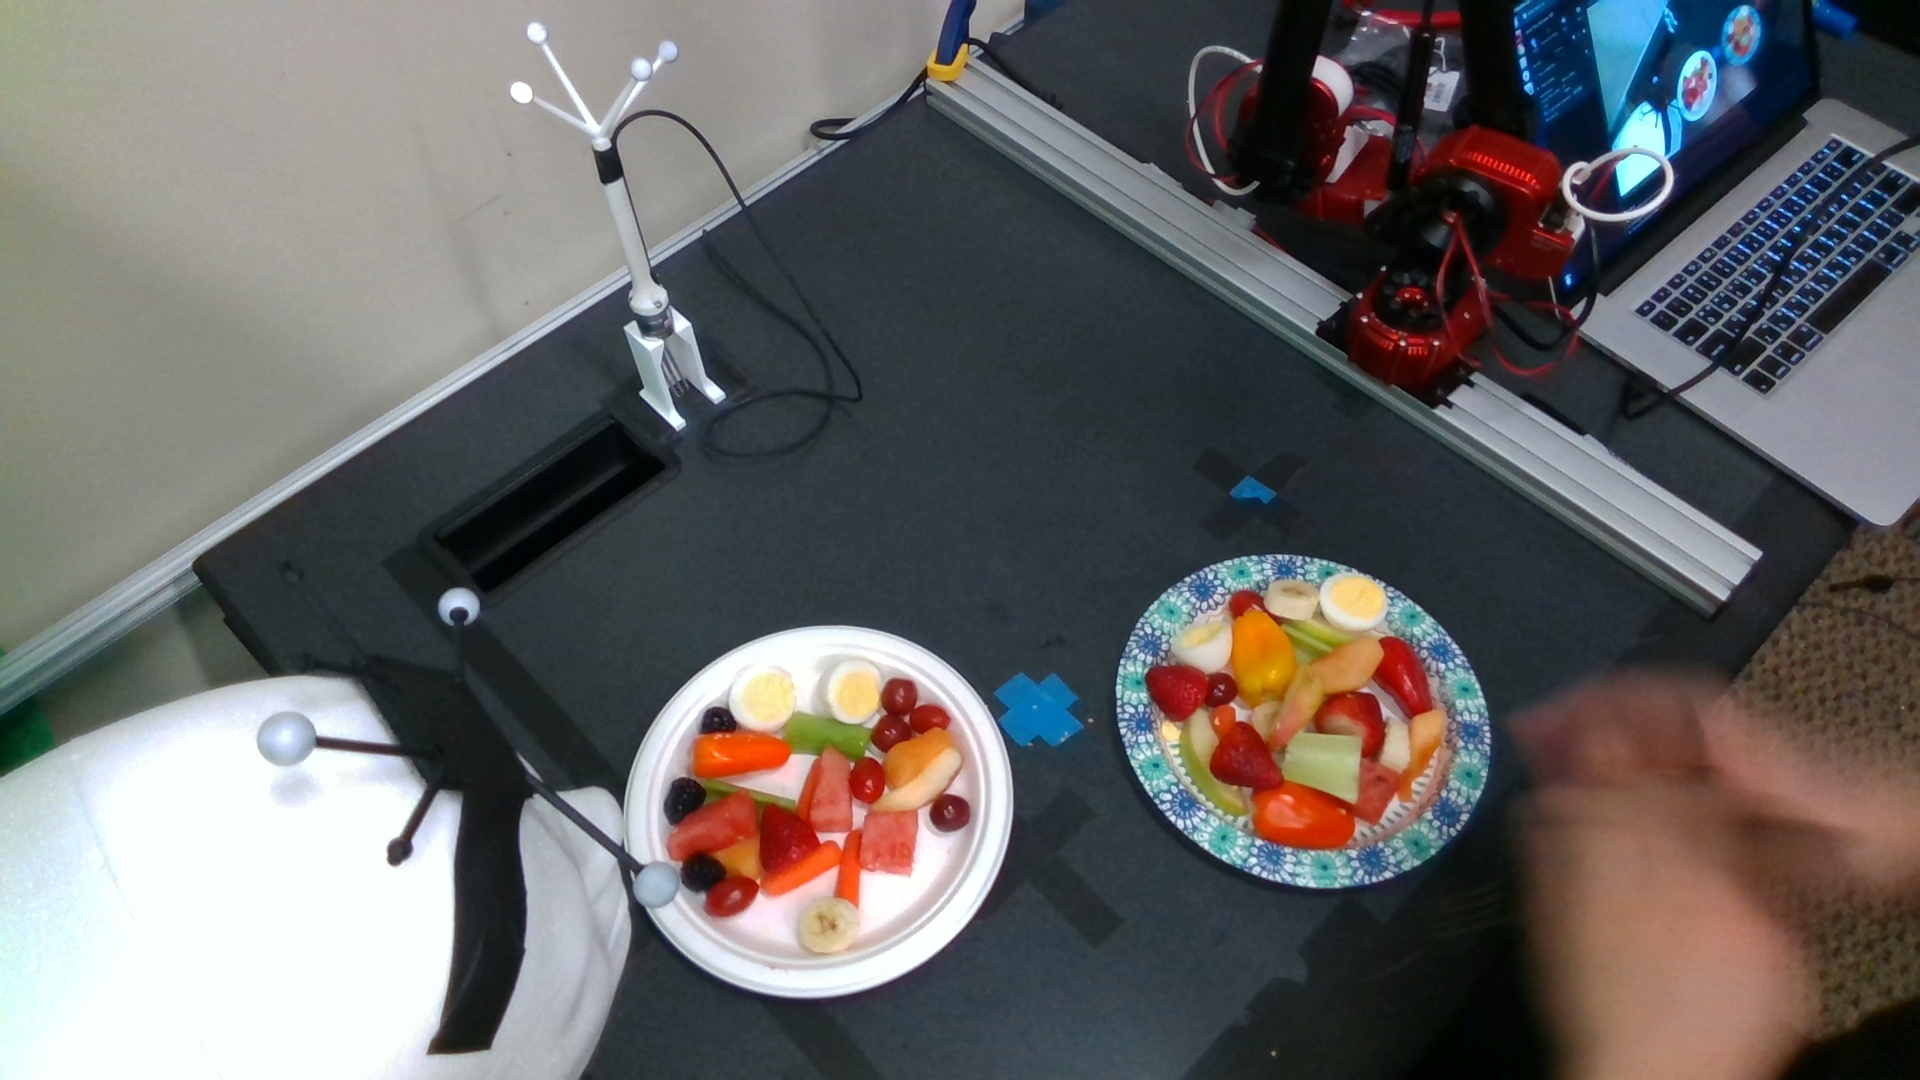apple: (1182, 707, 1247, 812), (878, 746, 960, 811), (1271, 674, 1323, 749)
banana: (799, 895, 862, 953), (1265, 579, 1320, 618), (1382, 716, 1408, 773)
bell_pepper: (1249, 782, 1356, 849), (1230, 609, 1294, 702), (690, 729, 790, 777), (1374, 636, 1431, 716)
blackberry: (665, 777, 704, 824), (683, 851, 725, 890), (702, 707, 735, 735)
cantalope: (1309, 637, 1385, 692), (1400, 708, 1443, 800), (884, 728, 947, 789)
carrot: (762, 840, 841, 895), (835, 828, 861, 907)
celery: (785, 709, 872, 760)
cherry_tomato: (705, 877, 760, 916), (849, 757, 884, 803), (910, 703, 951, 733)
egg: (728, 665, 796, 729), (820, 659, 881, 724), (1321, 574, 1386, 633), (1171, 622, 1232, 673)
grape: (872, 713, 910, 753), (928, 795, 968, 831), (881, 678, 916, 713), (1204, 673, 1238, 708)
melon: (669, 790, 760, 860), (810, 745, 853, 832), (860, 810, 916, 876), (1353, 760, 1400, 824)
plate: (612, 626, 1004, 1001), (1116, 553, 1491, 887)
strawberry: (1211, 723, 1284, 789), (1316, 692, 1386, 756), (760, 804, 820, 872), (1147, 665, 1209, 723)
